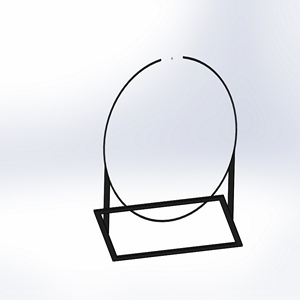circle: (92, 51, 247, 262)
